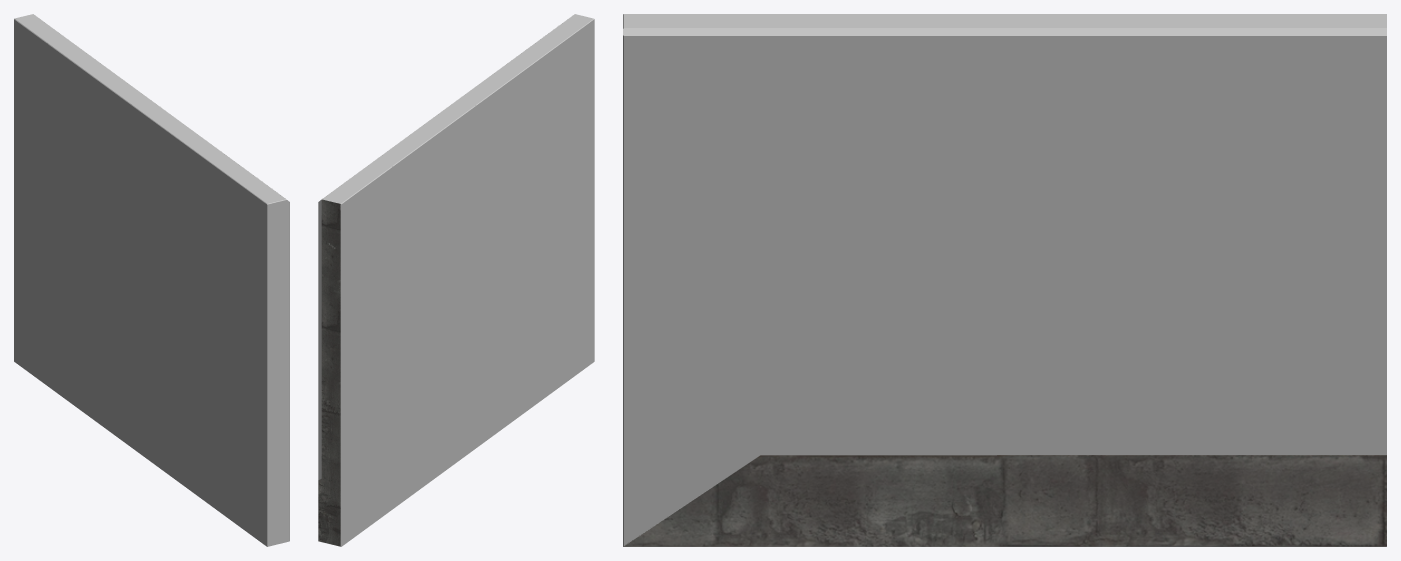
File: SM_concrete_fence_01.fbx
3 views of the same model, side by side, from view 1: azimuth 30°, elevation 25°; view 2: azimuth 150°, elevation 25°; view 3: azimuth 270°, elevation 25° (orthographic). The views are drawn at different scales.
Visible parts, largest first — view 1: SM_concrete_fence_01_ConvexHulls; view 2: SM_concrete_fence_01_ConvexHulls, SM_concrete_fence_01; view 3: SM_concrete_fence_01_ConvexHulls, SM_concrete_fence_01.
Part boxes in pixels (box(x1,y1,x2,y2)): SM_concrete_fence_01_ConvexHulls: box(14, 14, 289, 546); SM_concrete_fence_01_ConvexHulls: box(318, 14, 594, 546); SM_concrete_fence_01: box(318, 199, 340, 546); SM_concrete_fence_01_ConvexHulls: box(623, 14, 1386, 546); SM_concrete_fence_01: box(624, 455, 1386, 546).
Size of the model in its own units: 25.5 by 488 by 364.
Materials: 2 (1 with a texture image).
